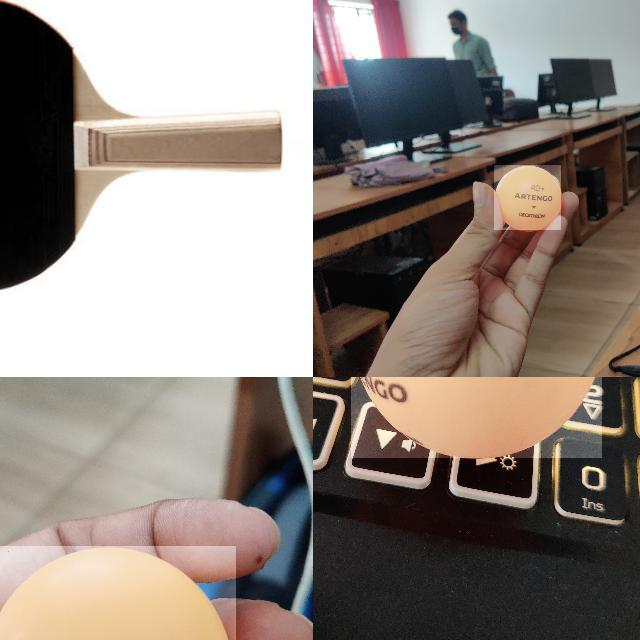ping-pong-ball: (0, 546, 238, 639), (351, 377, 604, 459), (494, 165, 562, 231)
